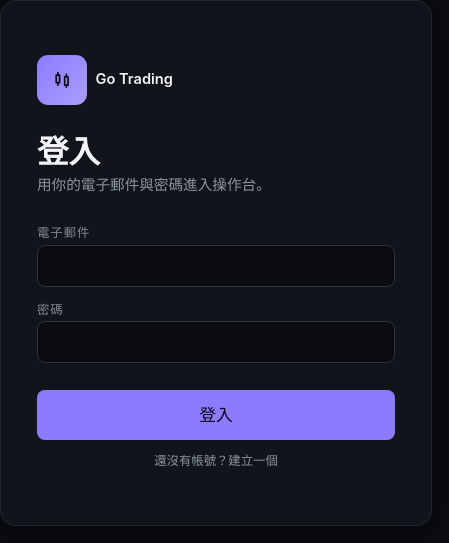
Test: SignInPanel：一張卡片，兩種模式 › 切過去就是建立帳號
Step 1. Click the button with test id "switch-mode" → x=216, y=460, box top-left (144, 449), bottom-right (288, 471)
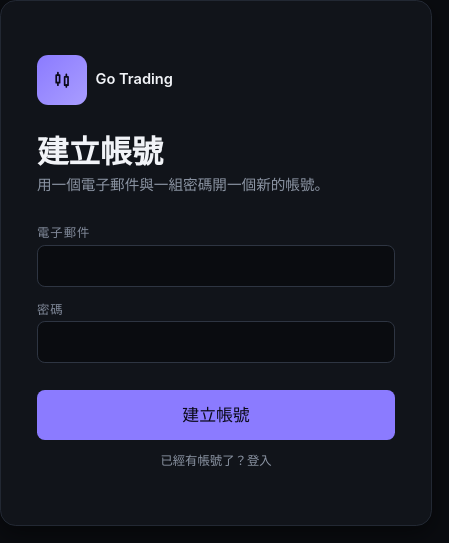
Expected: the heading "建立帳號" is shown, top-left (37, 132), bottom-right (163, 170)
Expected: the button with test id "submit" reads "建立帳號", top-left (37, 390), bottom-right (395, 440)
